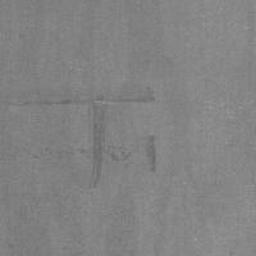Inclusion: (6, 84, 157, 189), (109, 143, 140, 169), (145, 133, 157, 172)
